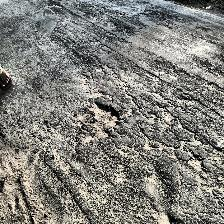pothole: (86, 101, 119, 135), (187, 154, 205, 172)
